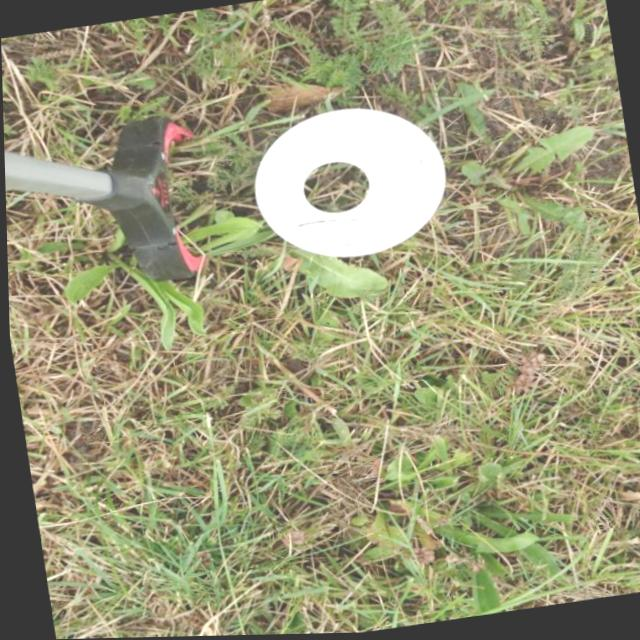Paper: (239, 94, 458, 274)
